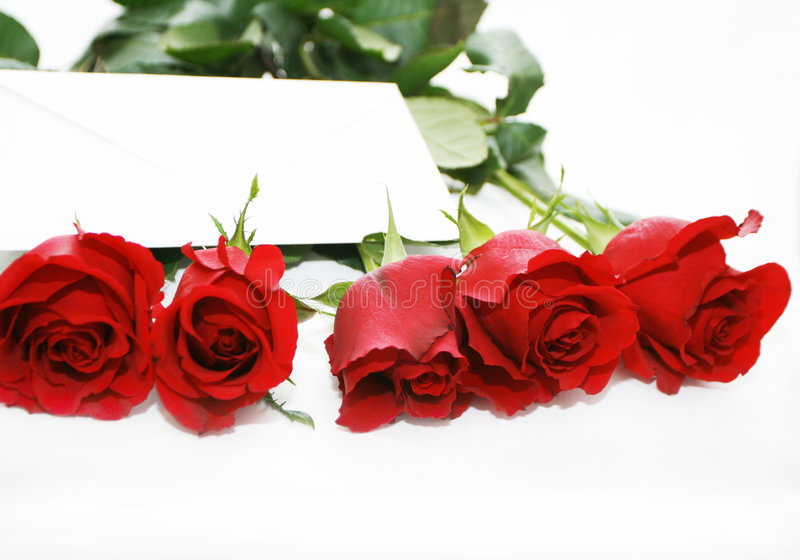RedRose: (612, 195, 796, 411), (330, 235, 494, 467), (2, 217, 163, 428), (459, 243, 643, 426), (171, 232, 307, 450)
